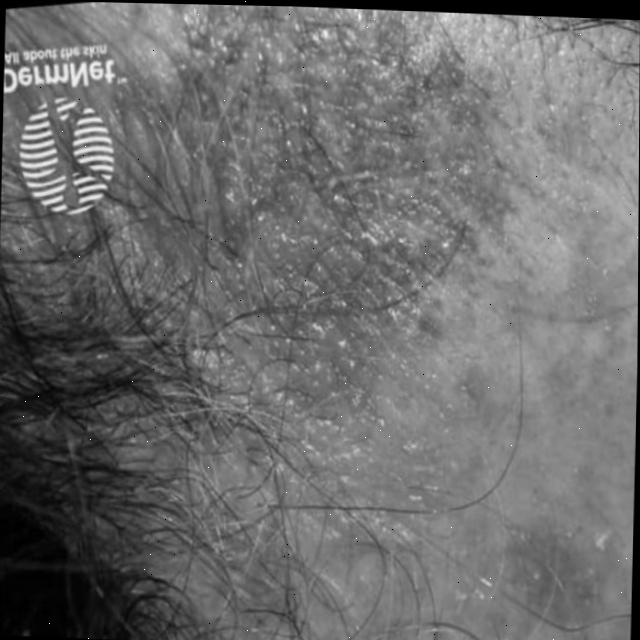Eczema: (139, 40, 448, 409), (498, 547, 572, 621)
